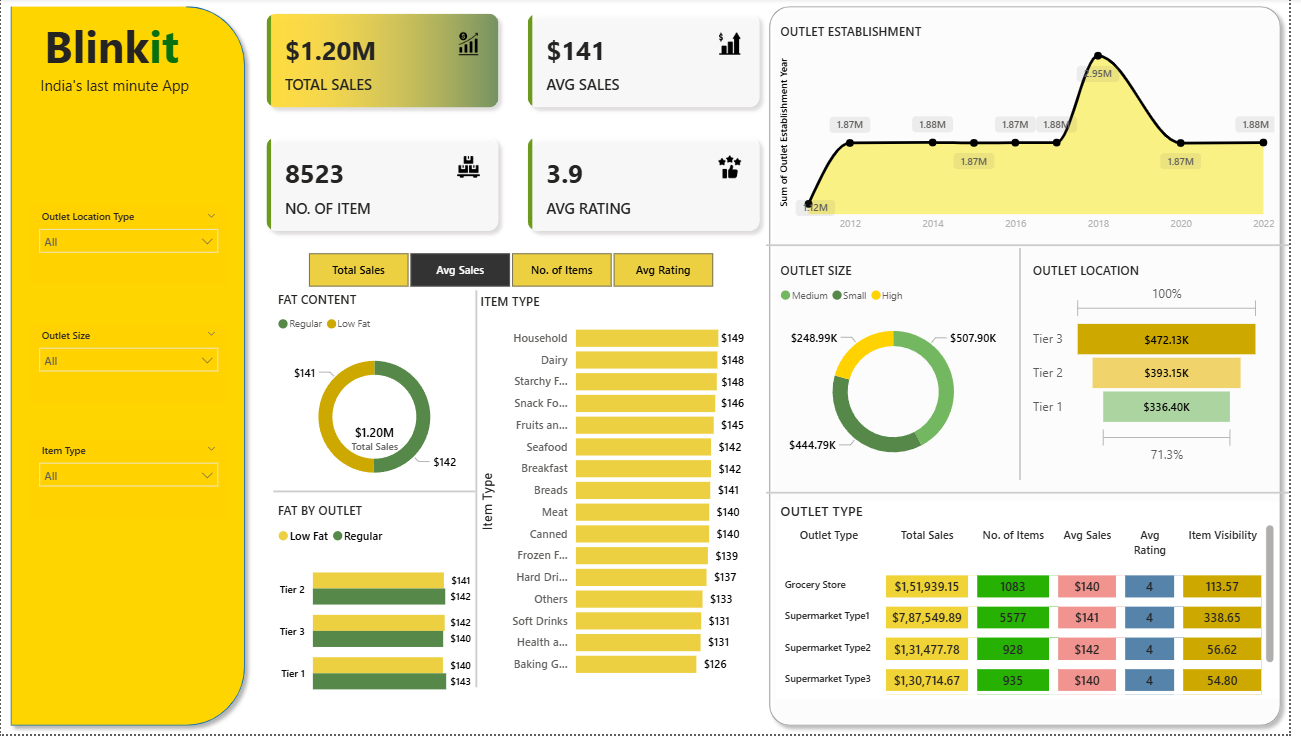

This screenshot's page, from the dashboard's own definition file:
{"tool":"powerbi","page":{"name":"Page 1","canvas":[1400,800],"ordinal":0},"visuals":[{"type":"shape","box":[1.8,0,272.7,800],"z":0},{"type":"textbox","box":[41.7,13.3,228.3,91.7],"z":1000},{"type":"textbox","box":[38.3,78.3,236.7,53.3],"z":2000},{"type":"cardVisual","fields":{"Data":["BlinkIT Grocery Data.Total Sales","BlinkIT Grocery Data.Avg Sales","BlinkIT Grocery Data.No. of Items","BlinkIT Grocery Data.Avg Rating"]},"box":[271.5,0,570.7,271.5],"z":3000},{"type":"shape","box":[826,0,574,800],"z":4000},{"type":"slicer","fields":{"Values":["Matrix.Matrix"]},"box":[308.6,270.7,489.7,50],"z":5000},{"type":"donutChart","title":"FAT CONTENT","fields":{"Y":["BlinkIT Grocery Data.Avg Sales"],"Category":["BlinkIT Grocery Data.Item Fat Content"]},"box":[296.7,318,219.7,229.5],"z":6000},{"type":"cardVisual","fields":{"Data":["BlinkIT Grocery Data.Total Sales"]},"box":[354.1,432.8,103.3,91.8],"z":7000},{"type":"clusteredBarChart","title":"FAT BY OUTLET","fields":{"Y":["BlinkIT Grocery Data.Avg Sales"],"Category":["BlinkIT Grocery Data.Outlet Location Type"],"Series":["BlinkIT Grocery Data.Item Fat Content"]},"box":[296.7,547.5,219.7,229.5],"z":8000},{"type":"shape","box":[295.9,508.9,219.5,53.7],"z":9000},{"type":"shape","box":[498.4,318,36.1,431.1],"z":10000},{"type":"barChart","title":"ITEM TYPE","fields":{"Y":["BlinkIT Grocery Data.Avg Sales"],"Category":["BlinkIT Grocery Data.Item Type"]},"box":[516.4,321.3,296.7,427.9],"z":11000},{"type":"lineChart","title":"OUTLET ESTABLISHMENT","fields":{"Y":["Sum(BlinkIT Grocery Data.Outlet Establishment Year)"],"Category":["BlinkIT Grocery Data.Outlet Establishment Year"]},"box":[842.3,27.6,547,235],"z":12000},{"type":"donutChart","title":"OUTLET SIZE","fields":{"Y":["BlinkIT Grocery Data.Total Sales"],"Category":["BlinkIT Grocery Data.Outlet Size"]},"box":[842.3,286.2,255.3,237.4],"z":13000},{"type":"shape","box":[1097.6,271.5,19.5,252],"z":14000},{"type":"funnel","title":"OUTLET LOCATION","fields":{"Category":["BlinkIT Grocery Data.Outlet Location Type"],"Y":["BlinkIT Grocery Data.Total Sales"]},"box":[1117.1,286.2,256.9,224.4],"z":15000},{"type":"shape","box":[830.9,510.6,569.1,53.7],"z":16000},{"type":"shape","box":[830.9,242.3,569.1,53.7],"z":17000},{"type":"pivotTable","title":"OUTLET TYPE","fields":{"Rows":["BlinkIT Grocery Data.Outlet Type"],"Values":["BlinkIT Grocery Data.Total Sales","BlinkIT Grocery Data.No. of Items","BlinkIT Grocery Data.Avg Sales","BlinkIT Grocery Data.Avg Rating","Sum(BlinkIT Grocery Data.Item Visibility)"]},"box":[842.3,548,546.3,214.6],"z":18000},{"type":"slicer","fields":{"Values":["BlinkIT Grocery Data.Outlet Location Type"]},"box":[30.9,226,214.6,86.2],"z":19000},{"type":"slicer","fields":{"Values":["BlinkIT Grocery Data.Outlet Size"]},"box":[30.9,354.5,214.6,86.2],"z":20000},{"type":"slicer","fields":{"Values":["BlinkIT Grocery Data.Item Type"]},"box":[30.9,479.7,214.6,86.2],"z":21000}]}

Visuals, with their boxes in screenshot pixels (x1, y1, x2, y2), scaled from the page's 1400x800 canvas onto the 1301x739 screenshot:
shape: bbox=[2, 0, 255, 738]
textbox: bbox=[39, 12, 251, 97]
textbox: bbox=[36, 72, 256, 122]
cardVisual - BlinkIT Grocery Data.Total Sales x BlinkIT Grocery Data.Avg Sales: bbox=[252, 0, 783, 251]
shape: bbox=[768, 0, 1300, 738]
slicer - Matrix.Matrix: bbox=[287, 250, 742, 296]
"FAT CONTENT" donutChart: bbox=[276, 294, 480, 506]
cardVisual - BlinkIT Grocery Data.Total Sales: bbox=[329, 400, 425, 485]
"FAT BY OUTLET" clusteredBarChart: bbox=[276, 506, 480, 718]
shape: bbox=[275, 470, 479, 520]
shape: bbox=[463, 294, 497, 692]
"ITEM TYPE" barChart: bbox=[480, 297, 756, 692]
"OUTLET ESTABLISHMENT" lineChart: bbox=[783, 25, 1291, 243]
"OUTLET SIZE" donutChart: bbox=[783, 264, 1020, 484]
shape: bbox=[1020, 251, 1038, 484]
"OUTLET LOCATION" funnel: bbox=[1038, 264, 1277, 472]
shape: bbox=[772, 472, 1300, 521]
shape: bbox=[772, 224, 1300, 273]
"OUTLET TYPE" pivotTable: bbox=[783, 506, 1290, 704]
slicer - BlinkIT Grocery Data.Outlet Location Type: bbox=[29, 209, 228, 288]
slicer - BlinkIT Grocery Data.Outlet Size: bbox=[29, 327, 228, 407]
slicer - BlinkIT Grocery Data.Item Type: bbox=[29, 443, 228, 523]
